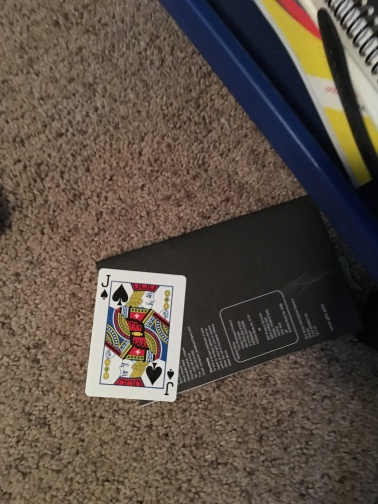jack: (85, 268, 188, 404)
